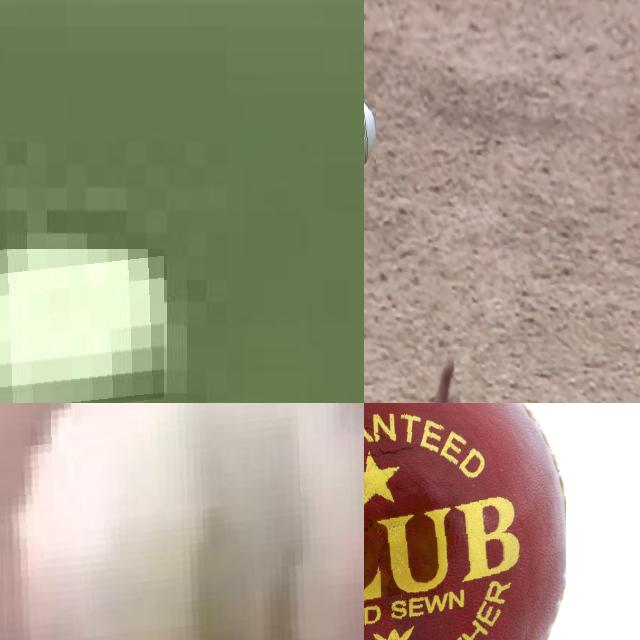Cricket ball: (0, 403, 364, 640), (364, 403, 565, 640), (0, 248, 164, 403), (364, 99, 376, 171)
